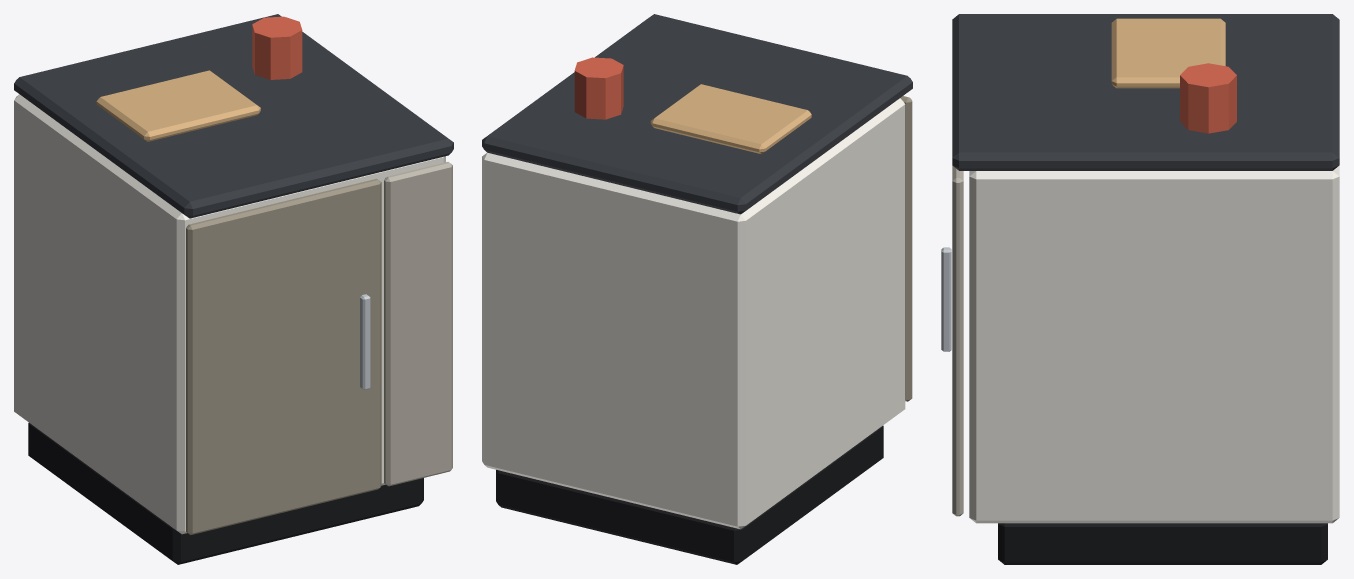
Rendered from kitchen_corner_cabinet_inner.glb.
3 views of the same model, side by side, from view 1: azimuth 30°, elevation 25°; view 2: azimuth 150°, elevation 25°; view 3: azimuth 270°, elevation 25° (orthographic). The views are drawn at different scales.
Visible parts, largest first — view 1: kitchen_corner_cabinet_inner_Body; view 2: kitchen_corner_cabinet_inner_Body; view 3: kitchen_corner_cabinet_inner_Body.
Part boxes in pixels (bbox=[...]): kitchen_corner_cabinet_inner_Body: bbox=[14, 14, 453, 564]; kitchen_corner_cabinet_inner_Body: bbox=[482, 14, 912, 564]; kitchen_corner_cabinet_inner_Body: bbox=[941, 14, 1339, 564].
Size of the model in its own units: 0.6 by 0.9 by 0.7.
